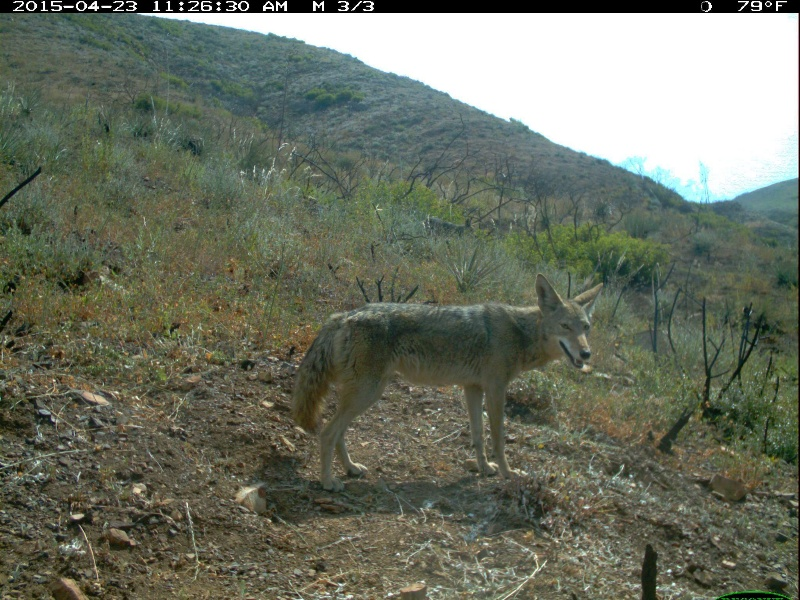coyote: (289, 273, 608, 494)
